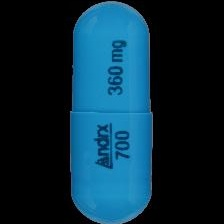62037-700: (0, 0, 224, 224)
